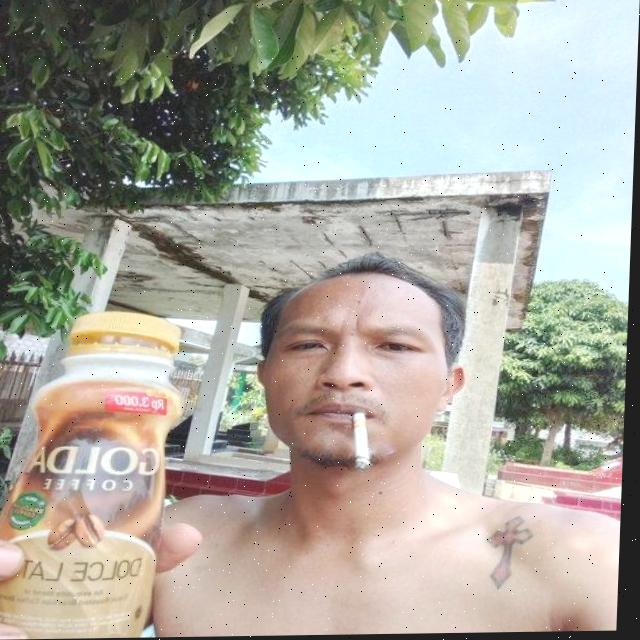cigarette: (354, 410, 376, 473)
